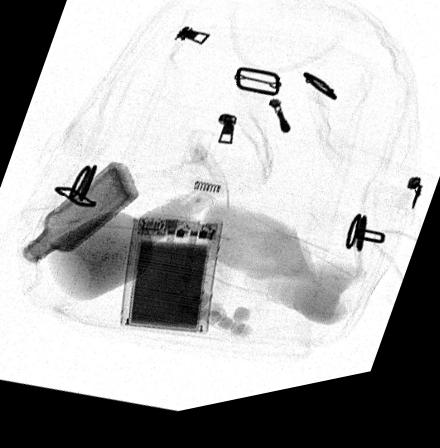Powerbank: (118, 217, 220, 342)
